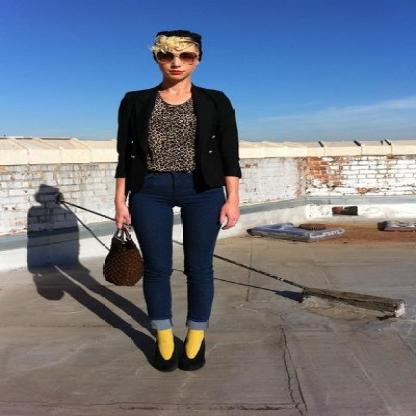bag: (103, 225, 147, 286)
hat: (162, 30, 201, 48)
jacket: (112, 82, 244, 198)
pants: (125, 165, 234, 324)
shirt: (150, 98, 196, 171)
shoe: (144, 332, 204, 372)
sunglass: (153, 44, 202, 74)
